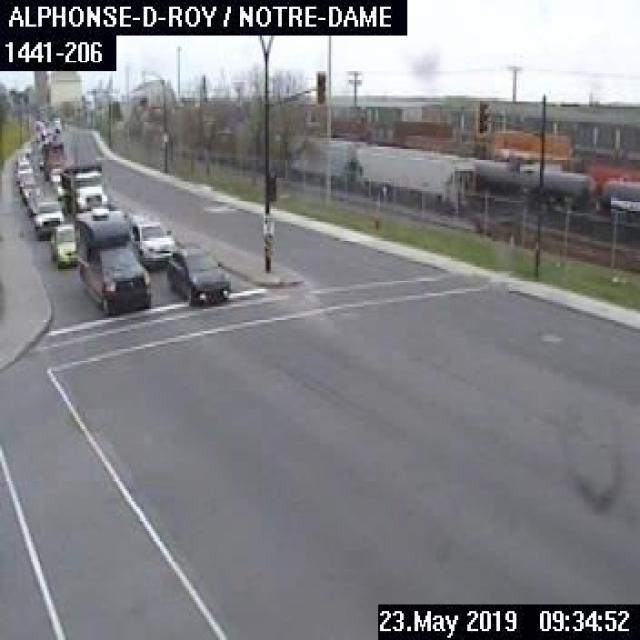vehicle: (68, 205, 152, 313), (163, 239, 231, 305), (57, 159, 110, 211), (127, 214, 175, 269), (29, 200, 65, 238), (48, 221, 78, 266), (19, 180, 43, 206), (15, 157, 32, 181), (46, 166, 59, 186)
